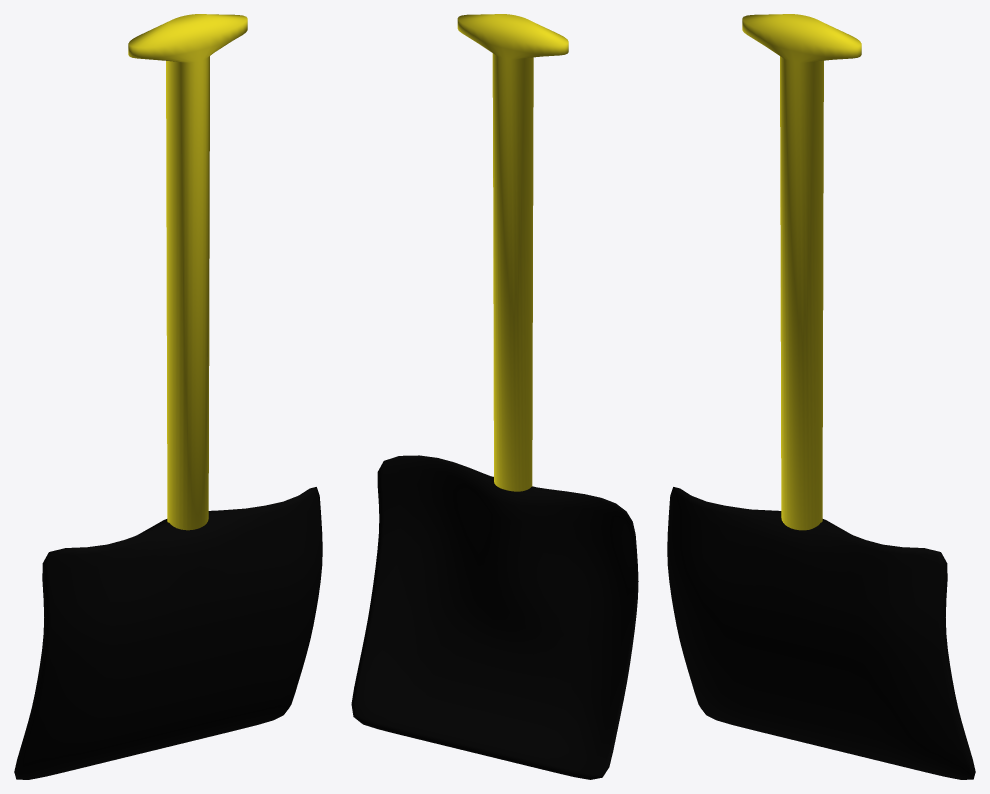
File: Pala.fbx
3 views of the same model, side by side, from view 1: azimuth 30°, elevation 25°; view 2: azimuth 150°, elevation 25°; view 3: azimuth 330°, elevation 25° (orthographic). The views are drawn at different scales.
Visible parts, largest first — view 1: Pala metallo, Manico pala; view 2: Pala metallo, Manico pala; view 3: Pala metallo, Manico pala.
Part boxes in pixels (box(x1,y1,x2,y2)): Pala metallo: box(14, 487, 322, 779); Manico pala: box(128, 14, 247, 530); Pala metallo: box(351, 455, 638, 779); Manico pala: box(457, 14, 568, 491); Pala metallo: box(667, 487, 975, 779); Manico pala: box(742, 14, 861, 530).
Size of the model in its own units: 23.75 by 61.86 by 7.77.
